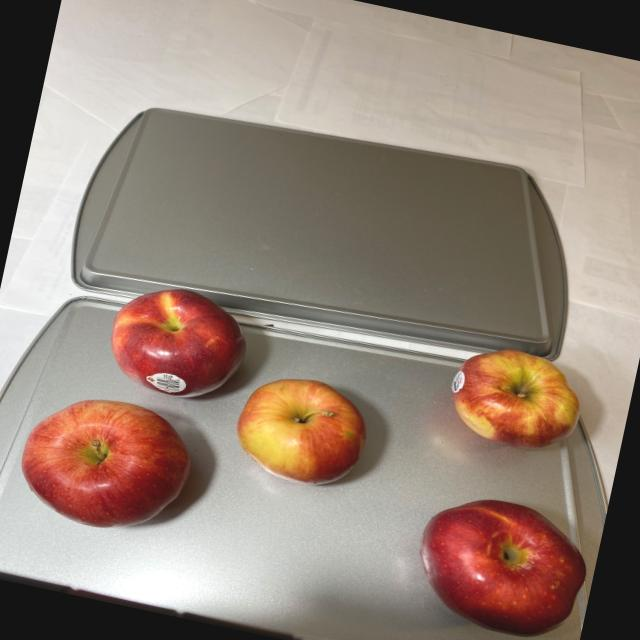apple: (8, 261, 394, 590), (399, 479, 603, 640), (432, 336, 592, 460)
